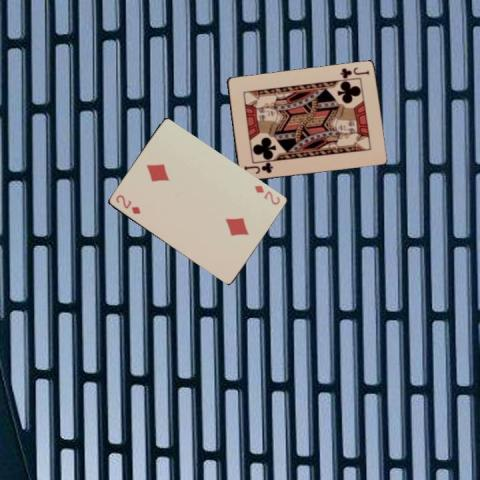2d: (252, 182, 282, 207), (113, 192, 141, 215)
Jc: (337, 65, 370, 80), (241, 161, 274, 175)
